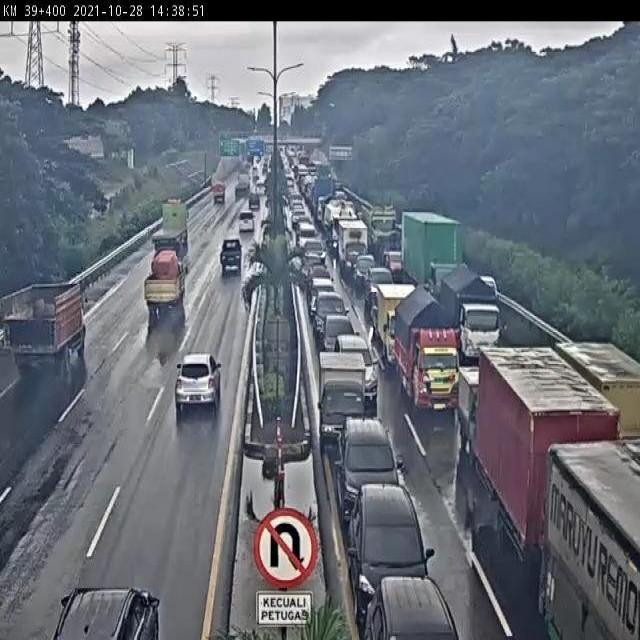big truck: (479, 345, 626, 595), (151, 197, 192, 252), (232, 170, 251, 198)
car: (349, 486, 436, 618), (335, 418, 399, 530), (363, 577, 460, 640), (335, 336, 380, 403), (176, 351, 222, 408), (319, 315, 360, 369), (312, 290, 350, 342), (367, 265, 395, 308), (309, 276, 334, 316), (355, 255, 376, 288), (238, 212, 255, 235), (247, 192, 262, 213)
small bus: (255, 179, 269, 197)
small truck: (548, 336, 640, 483), (393, 287, 462, 416), (0, 285, 85, 379), (458, 365, 521, 468), (438, 262, 500, 362), (397, 210, 457, 302), (317, 348, 369, 449), (377, 283, 420, 369), (143, 252, 190, 317), (339, 220, 369, 276), (219, 239, 244, 272), (211, 180, 227, 203)
